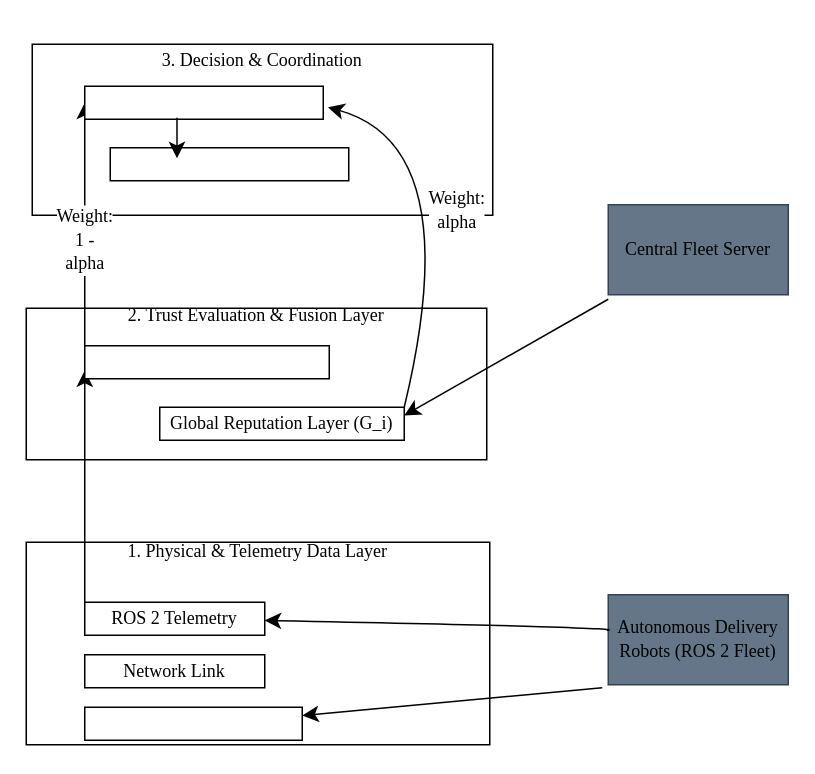
Image size: 815x774. Some labels were removed from this diagram. The shapes that lost their labels are listed below. From the top down, each one's centre as x and y in pixels, then its label:
At point 203,102: "Hybrid Trust Fusion Engine".
At point 229,163: "Isolation & Decision Engine".
At point 206,361: "Direct Local Trust (L_ij)".
At point 192,723: "Custom Anomaly Injector".
